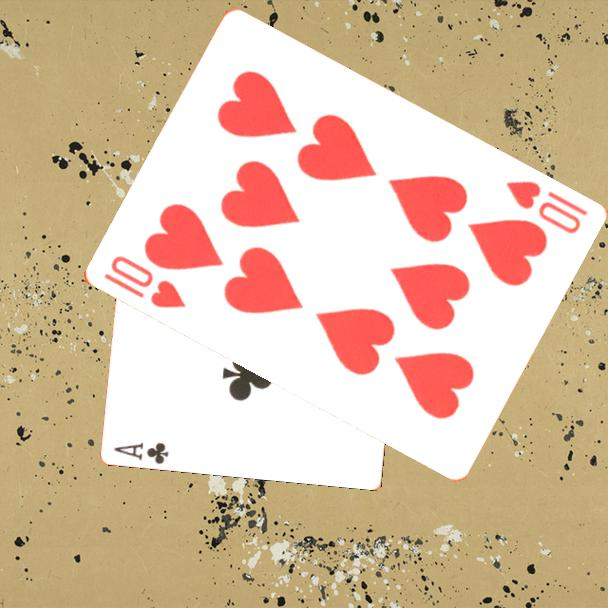c01: (111, 439, 172, 467)
h10: (100, 252, 188, 312), (502, 177, 590, 237)
